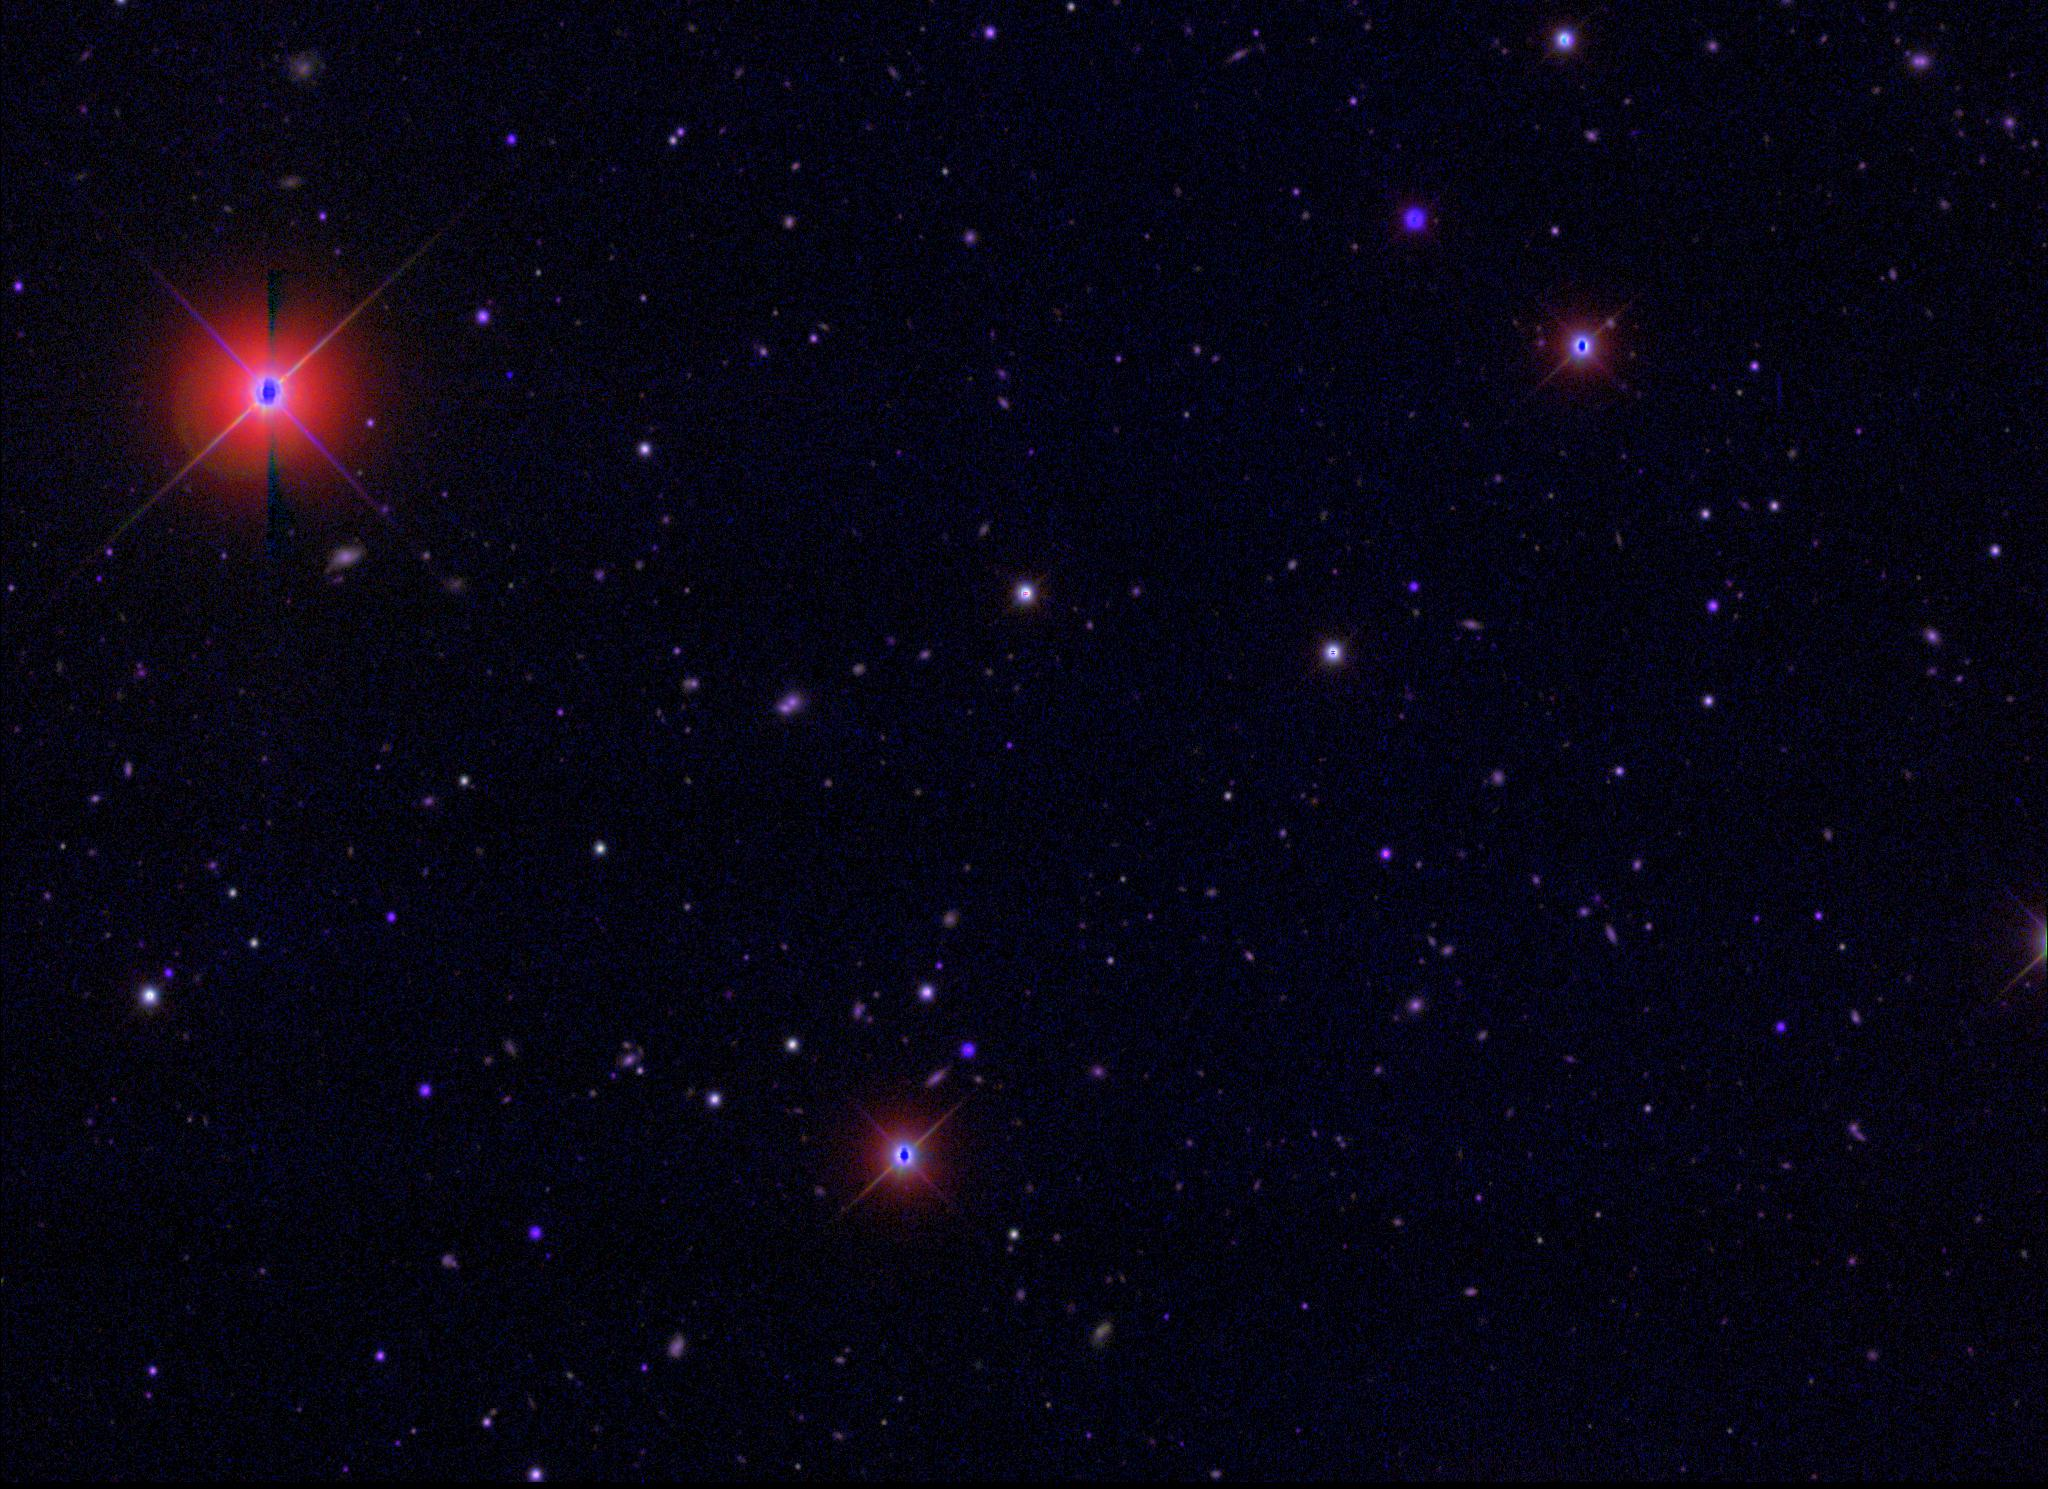L: (499, 369, 514, 383)
